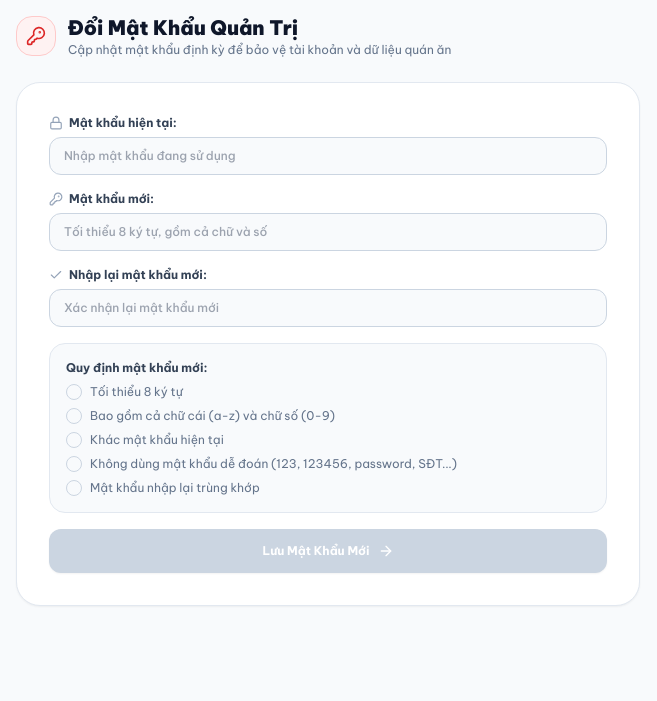
Test: Sprint 9: ChangePassword Component (/admin/change-password) › displays error message when changePassword fails on backend
This screenshot has width=657, height=701.
In the password field with test id "current-password-input": (328, 156) [49,137,607,175], type "wrongOldPass"
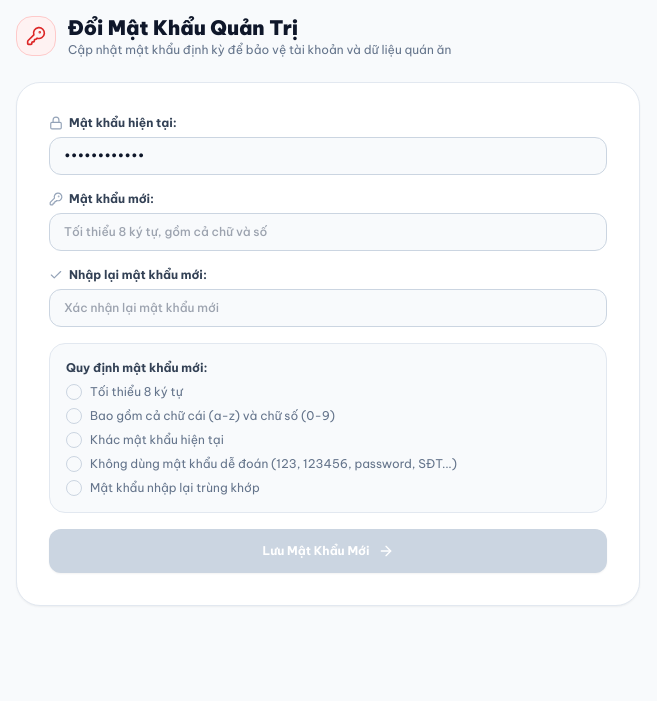
In the password field with test id "new-password-input": (328, 232) [49,213,607,251], type "NewSecret999"
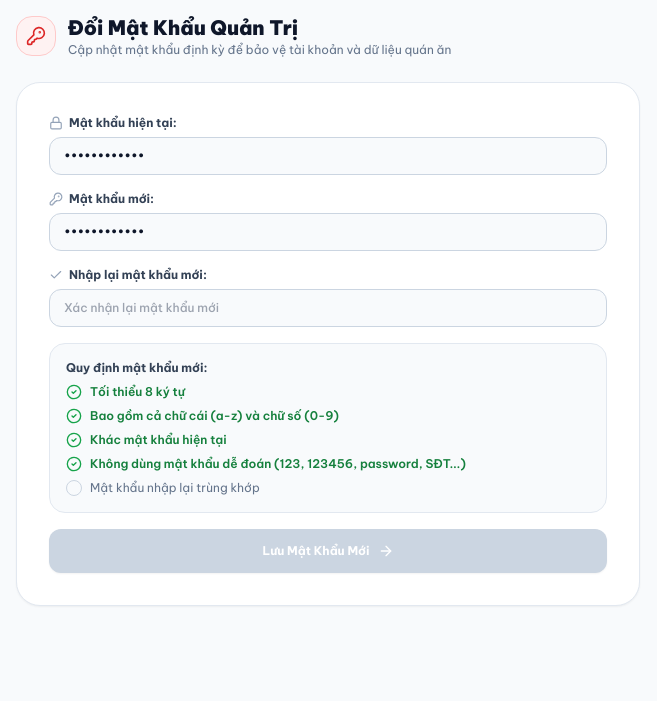
In the password field with test id "confirm-password-input": (328, 308) [49,289,607,327], type "NewSecret999"
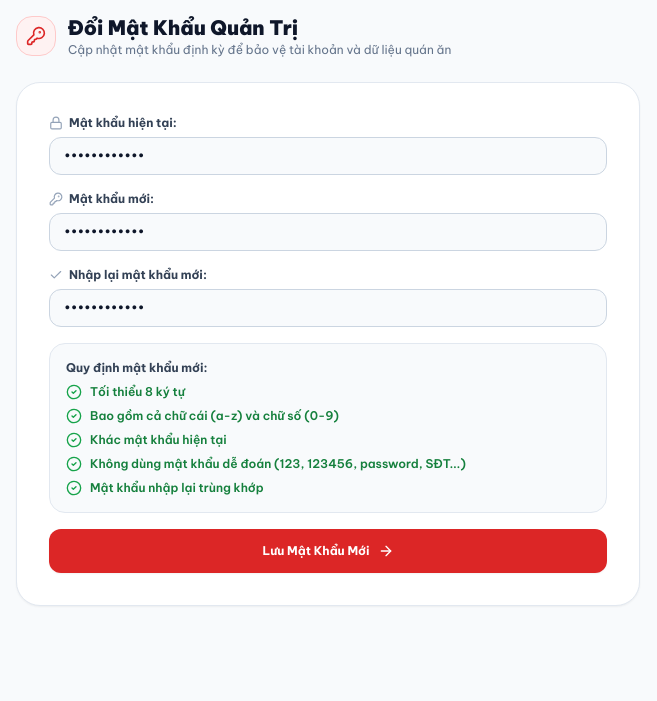
Click the button with test id "change-password-submit-btn": click(328, 551) [49,529,607,573]
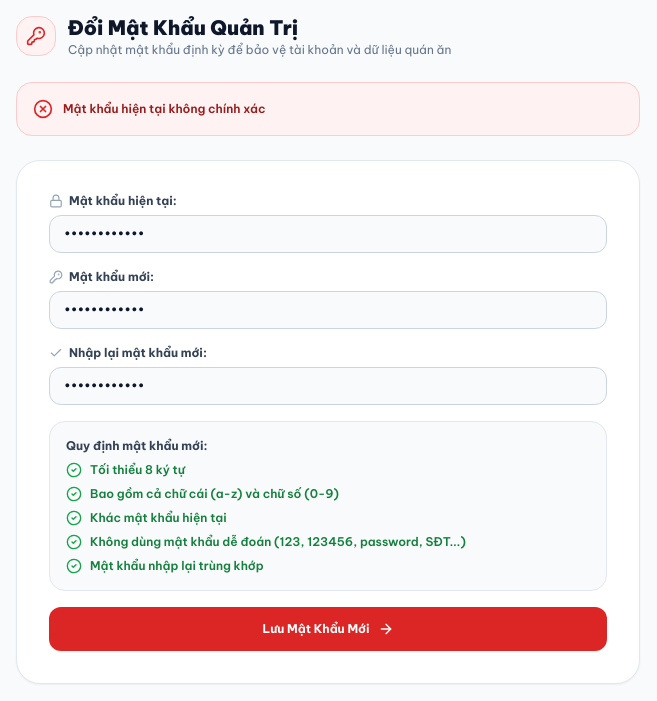
Expected: the element with test id "change-password-error-message" is shown, [16,82,640,136]
Expected: the text "Mật khẩu hiện tại không chính xác" is shown, [63,101,266,117]
